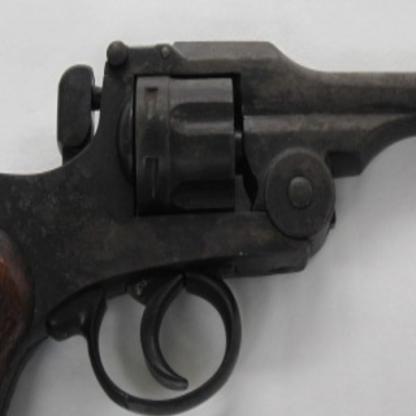gun: (0, 42, 415, 415)
